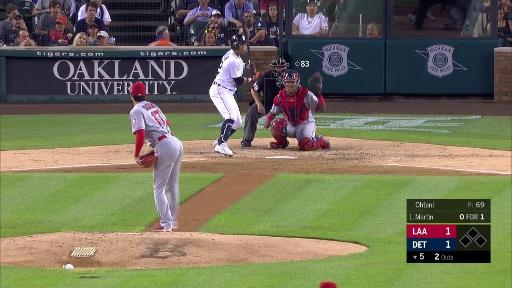pitcher: (130, 80, 190, 233)
